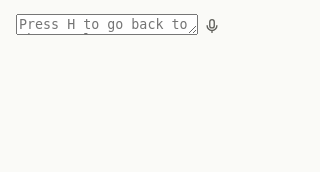
Test case: typing makes the send icon appear, and it sends
This screenshot has width=320, height=172.
Type "hello" into the text box named "Message" at x=107, y=24, box [16,14,198,35]
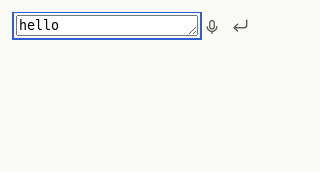
Check: the button named "Send" is empty
Click the button named "Send" at x=240, y=26, box [226,12,254,40]
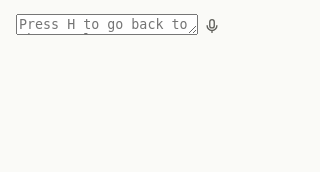
Check: the text box named "Message" is empty, box [16,14,198,35]
Check: the button "Send" is gone
